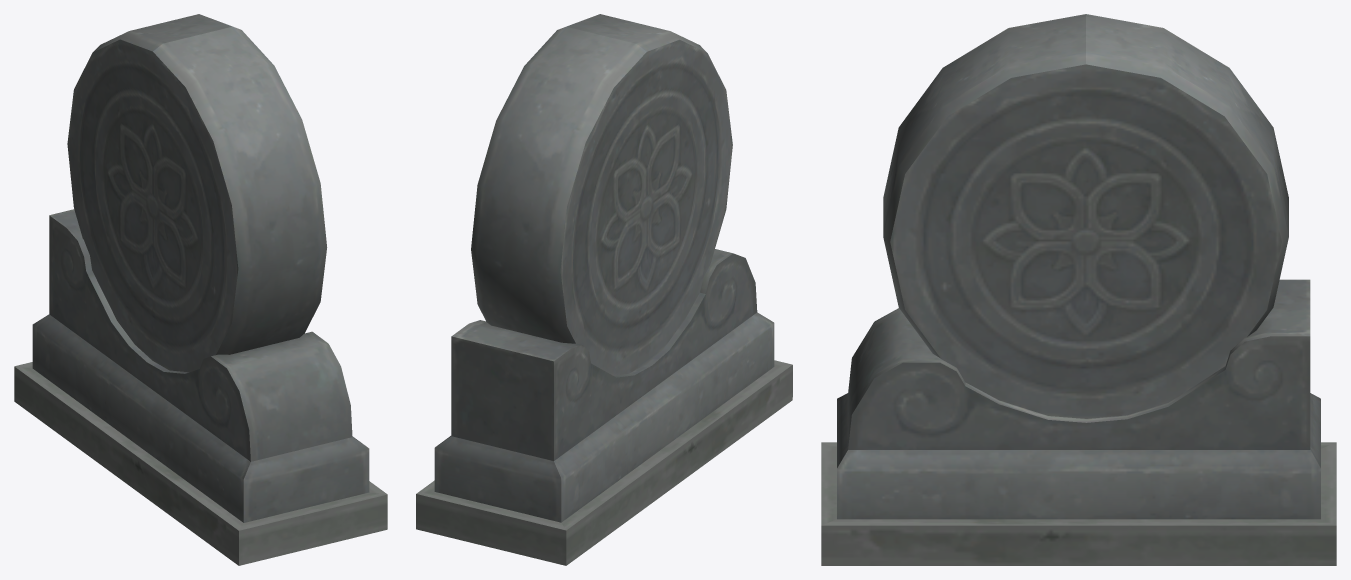
The model's file is Homeworld_Exterior_Cyg_Build_YlbDunzi_02_Vo.fbx.
3 renders of one model, left to right at view 1: azimuth 30°, elevation 25°; view 2: azimuth 150°, elevation 25°; view 3: azimuth 270°, elevation 25°, orthographic. The views are drawn at different scales.
Visible parts, largest first — view 1: Area_Cyg_Build_YLB_Dunzi_01_Vo; view 2: Area_Cyg_Build_YLB_Dunzi_01_Vo; view 3: Area_Cyg_Build_YLB_Dunzi_01_Vo.
Boxes of the visible parts, <box> form: Area_Cyg_Build_YLB_Dunzi_01_Vo: <box>14,14,387,565</box>; Area_Cyg_Build_YLB_Dunzi_01_Vo: <box>416,14,792,565</box>; Area_Cyg_Build_YLB_Dunzi_01_Vo: <box>821,14,1336,565</box>.
Size of the model in its own units: 0.6336 by 1.74 by 1.66.
